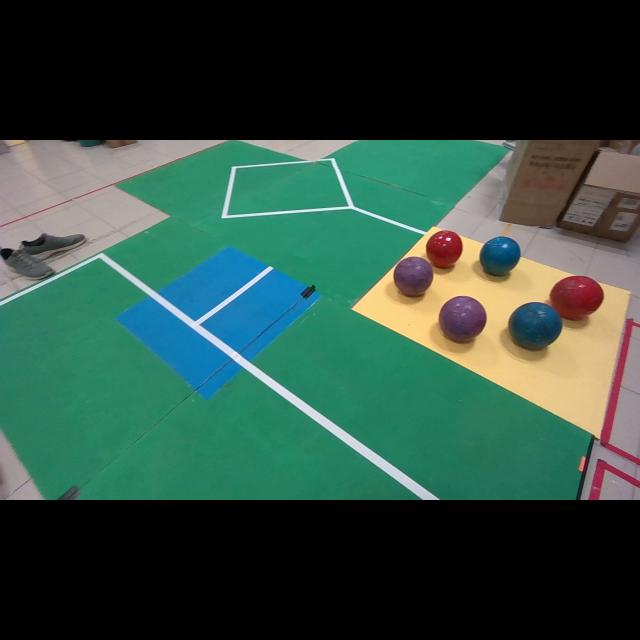B: (509, 302, 562, 350), (480, 236, 521, 276)
P: (439, 296, 486, 342), (394, 258, 432, 296)
R: (550, 276, 604, 319), (426, 230, 462, 267)
